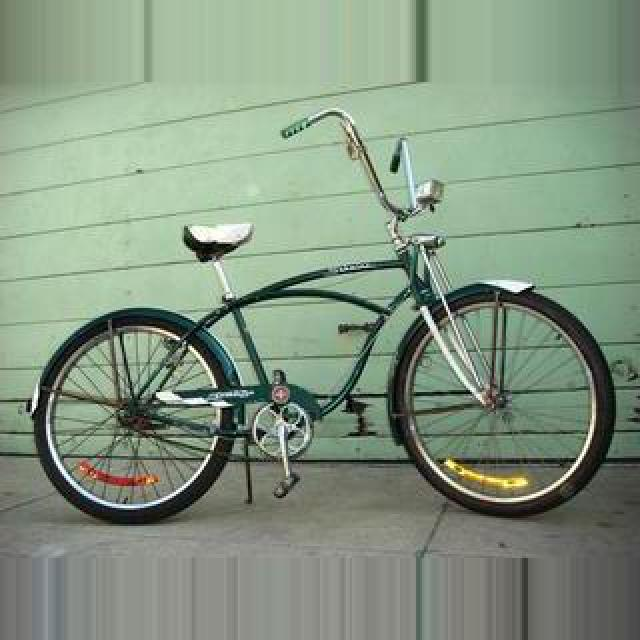Person: (29, 100, 601, 524)
